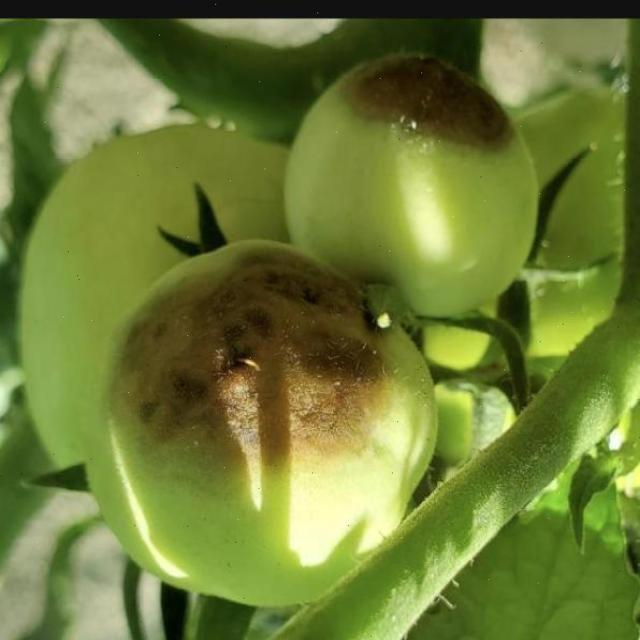Blossom End Rot Fruit: (113, 64, 282, 248)
